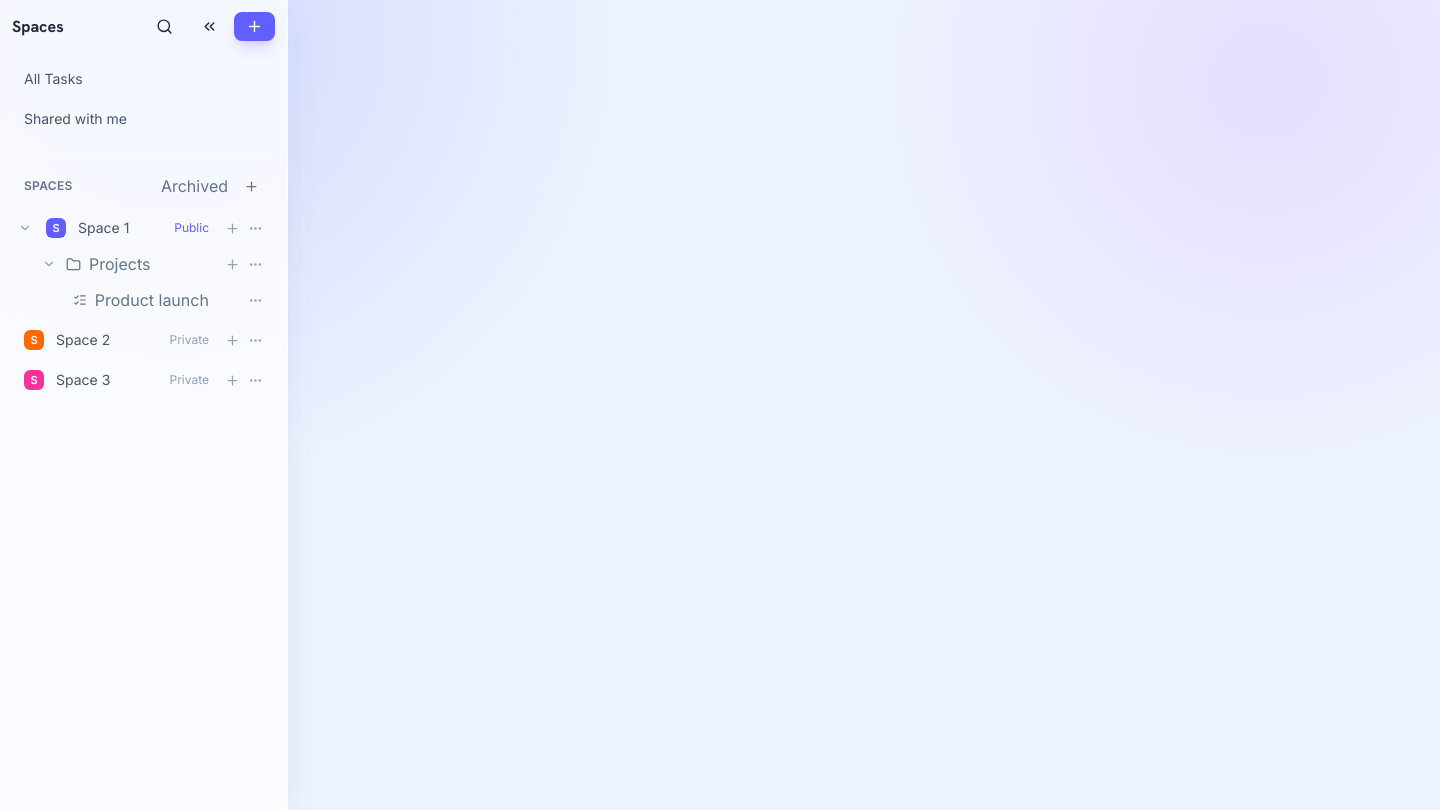
Scenario: ContextSidebar › shows project actions from the more menu
This screenshot has width=1440, height=810.
Click the button named "More options for Projects" at (256, 264), box [244,252,267,276]
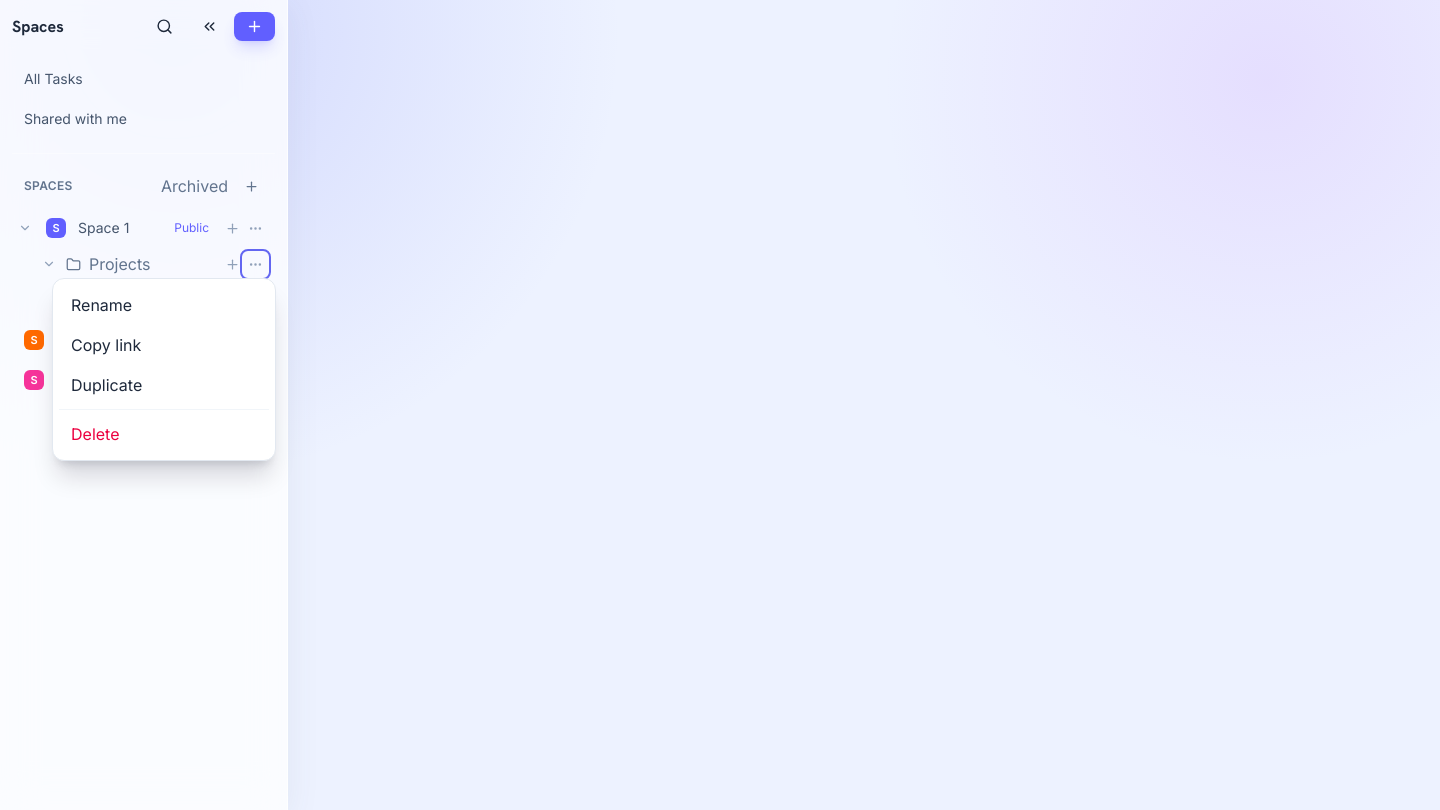
Result: the menu item "Rename" is shown at [59,285,269,325]
Result: the menu item "Duplicate" is shown at [59,365,269,405]
Result: the menu item "Delete" is shown at [59,414,269,454]
